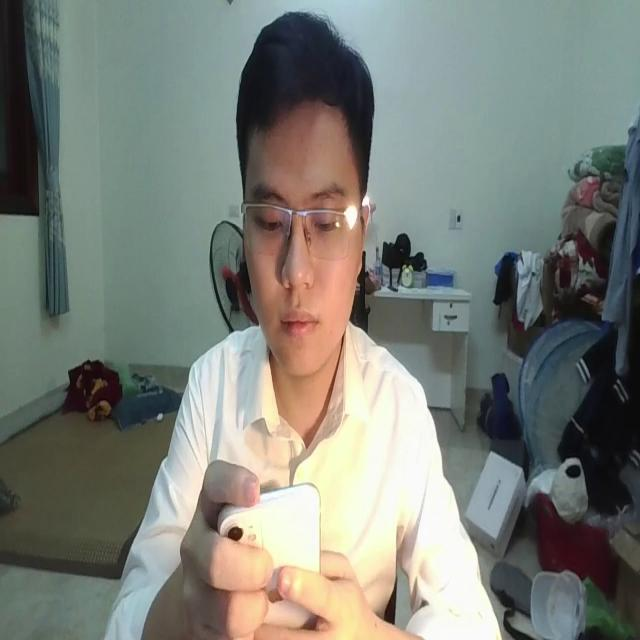phone: (219, 478, 324, 624)
student: (98, 10, 501, 640)
